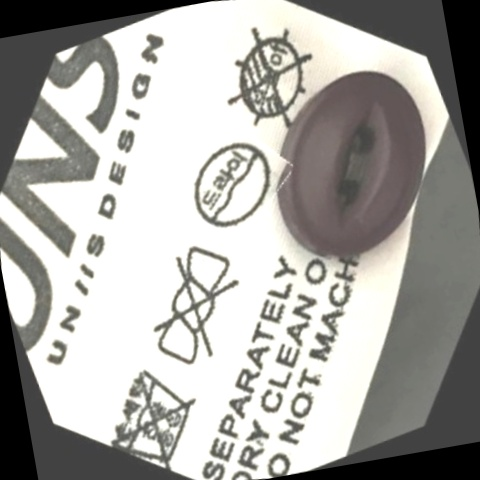DN_dry: (195, 3, 345, 154)
DN_wring: (112, 224, 280, 392)
dry_clean: (165, 115, 302, 254)
hand_wash: (80, 338, 226, 480)
